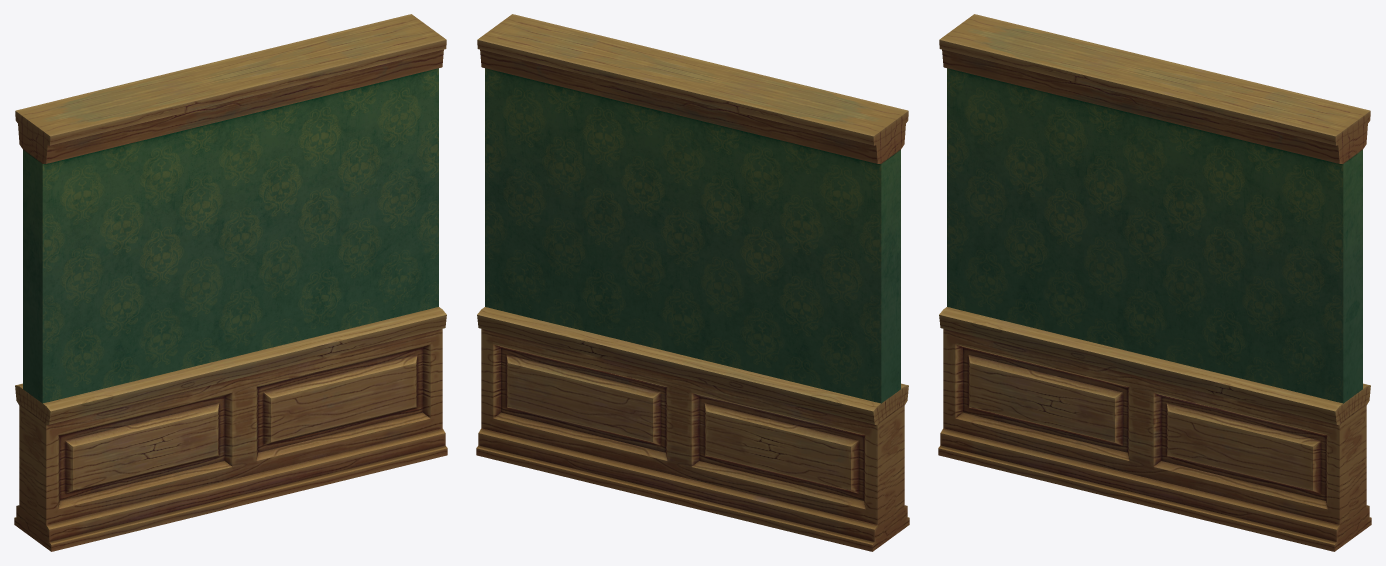
The model's file is Wall.fbx.
The picture shows the model from 3 angles, left to right: view 1: azimuth 30°, elevation 25°; view 2: azimuth 150°, elevation 25°; view 3: azimuth 330°, elevation 25°; orthographic projection.
Visible parts, largest first — view 1: Wall_Bottom_low.002; view 2: Wall_Bottom_low.002; view 3: Wall_Bottom_low.002.
Part boxes in pixels (x1=…): Wall_Bottom_low.002: x1=14, y1=14, x2=447, y2=551; Wall_Bottom_low.002: x1=476, y1=14, x2=909, y2=551; Wall_Bottom_low.002: x1=938, y1=14, x2=1371, y2=551.
Bounding box in the file's own units: 241 × 241 × 39.24.
2 materials, 2 textured.
